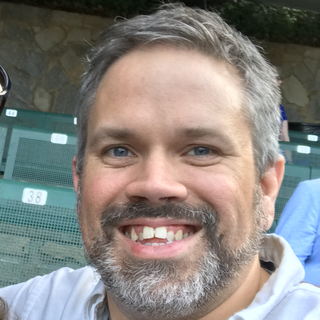eye: (94, 140, 148, 169), (176, 136, 228, 166)
